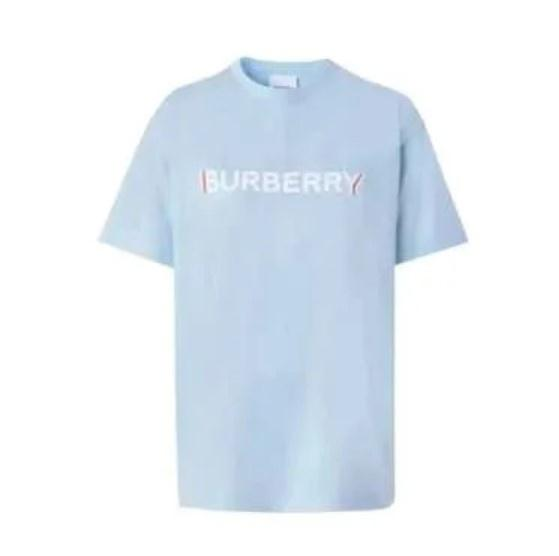BURBERRY: (198, 168, 366, 196)
